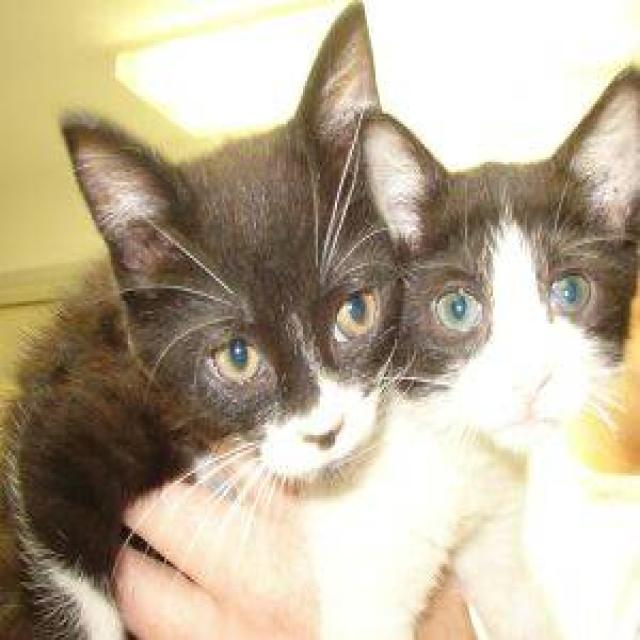cat: (0, 0, 418, 637)
